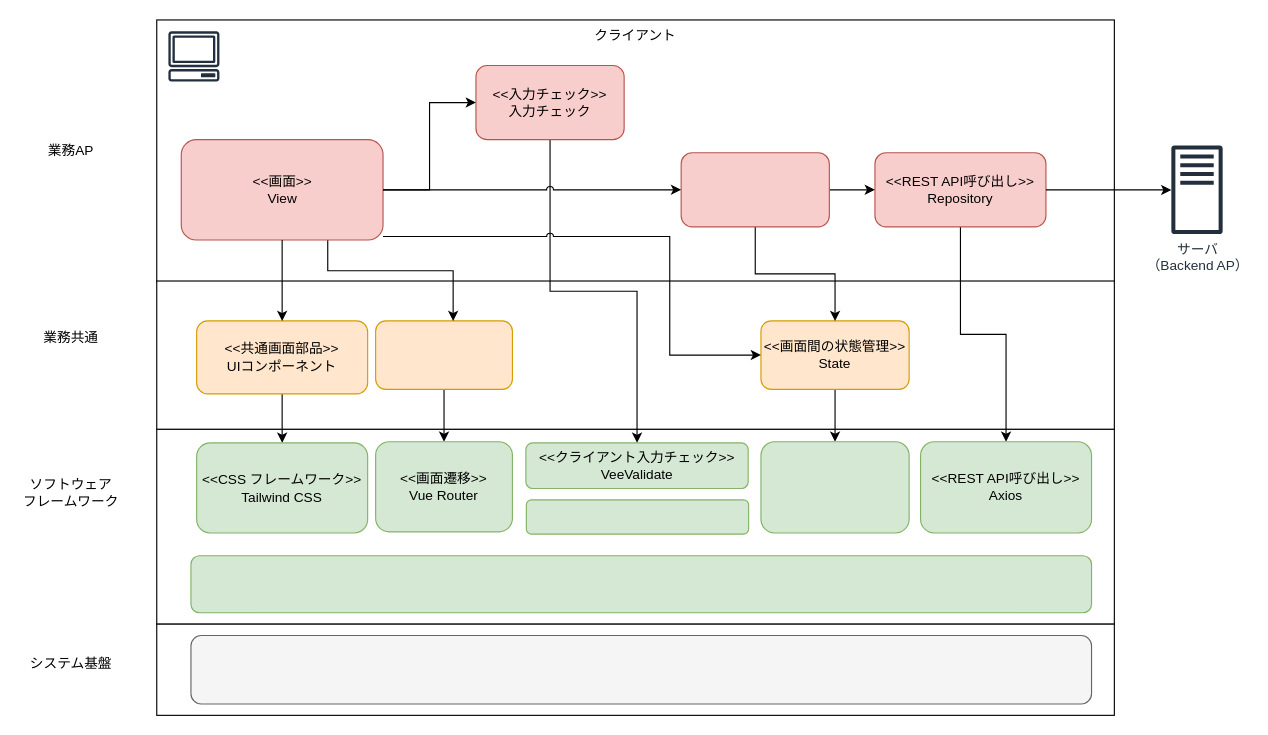
Some shapes in this 1268 by 735 pixel diagram are drawn without their labels. Each missing label, with the centre of its shape:
"<< ビジネスロジック>> Service" goes at point (754, 189).
"<<SPAフレームワーク>> Vue.js" goes at point (641, 584).
"<<クライアント入力チェック>> Yup" goes at point (637, 516).
"<<画面遷移>> Router" goes at point (443, 354).
"<<画面間の状態管理>> Pinia & Pinia Plugin Persistendstate" goes at point (834, 487).
"Webブラウザ" goes at point (641, 669).
